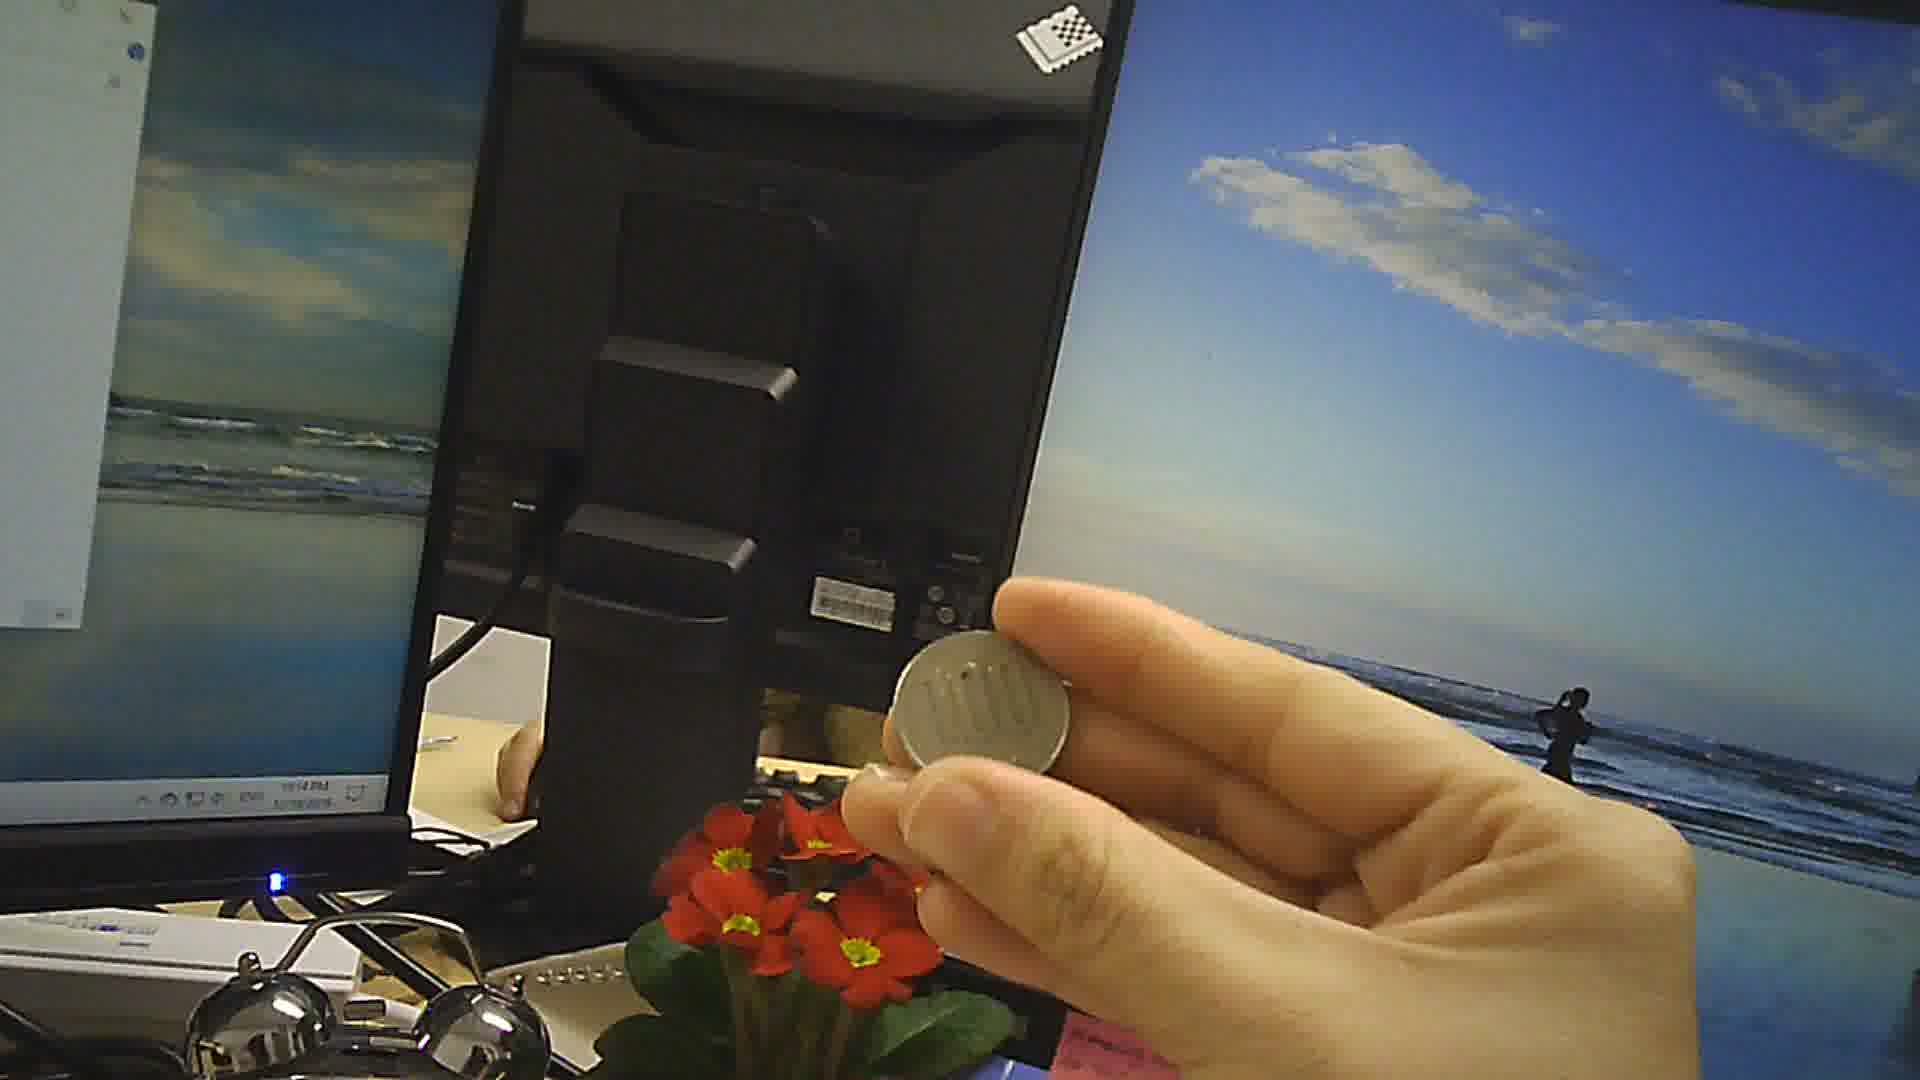100 Yen: (891, 625, 1073, 785)
